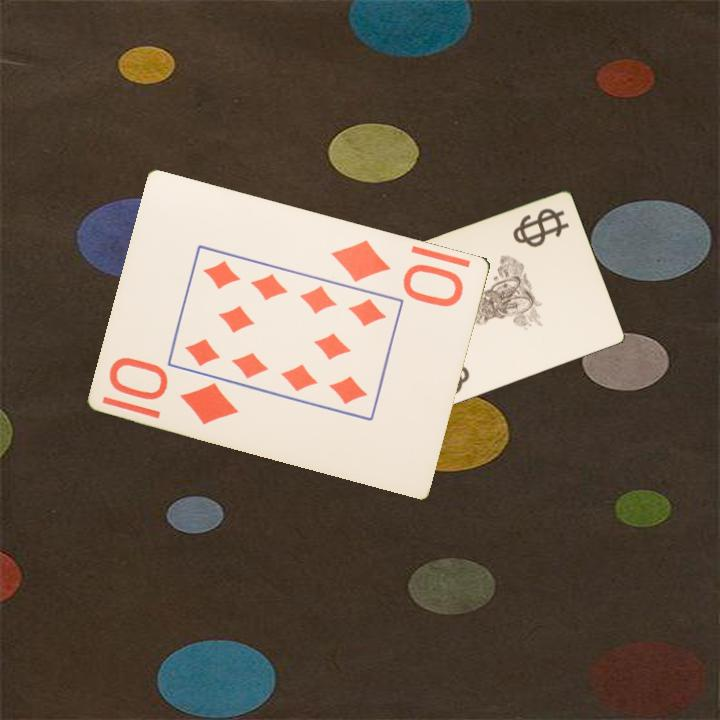10d: (328, 235, 467, 310), (105, 354, 242, 428)
JK: (509, 205, 572, 247)
